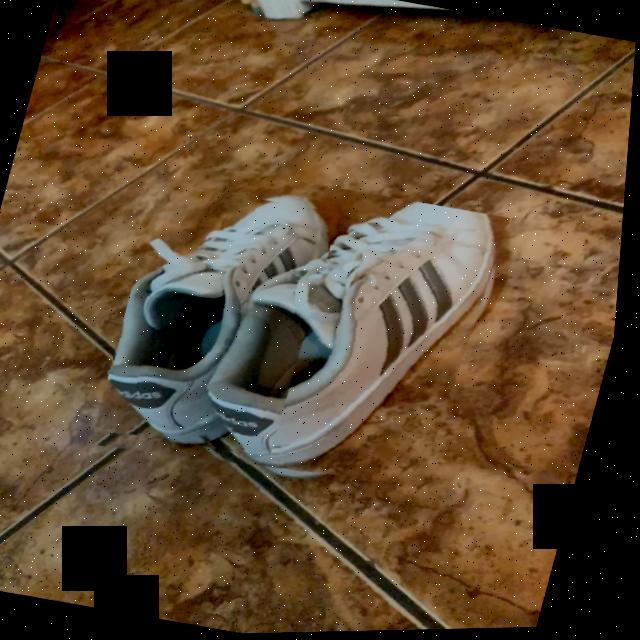shoe: (113, 205, 500, 472), (118, 205, 334, 445)
